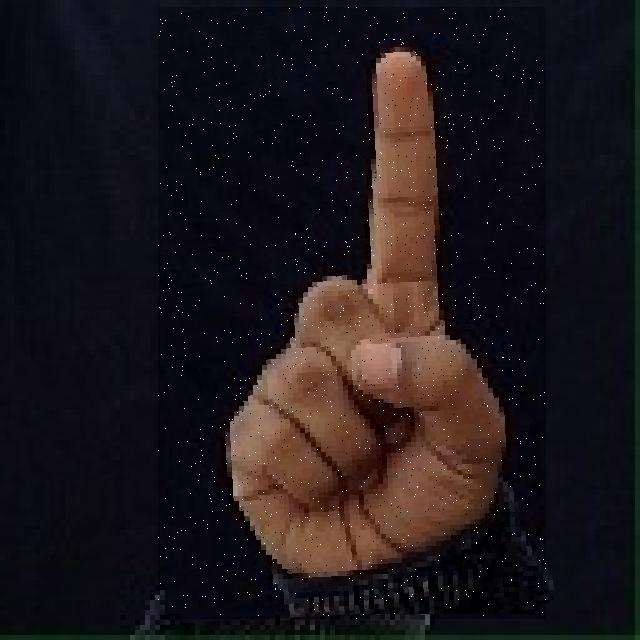IloveYou: (158, 7, 546, 619)
